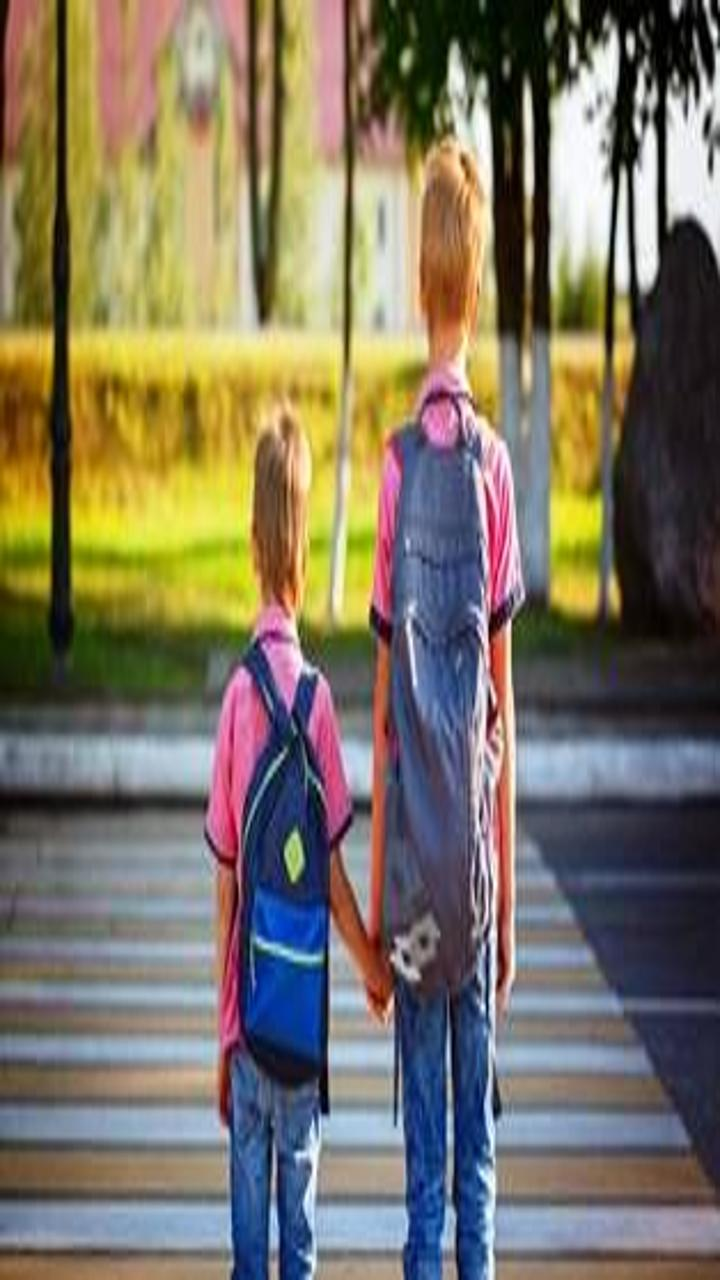pedestrian: (357, 105, 519, 1280), (172, 408, 353, 1280)
